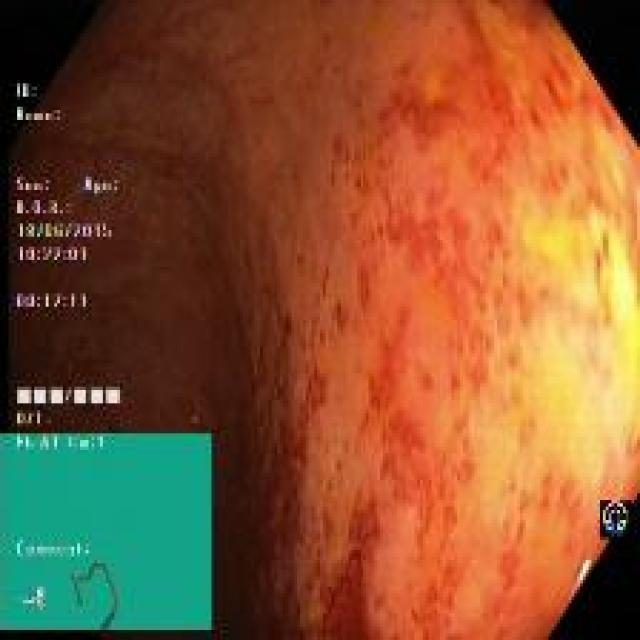ulcerative-colitis-grade-1: (428, 14, 640, 530), (291, 47, 454, 528), (232, 193, 298, 640), (308, 527, 548, 638)
